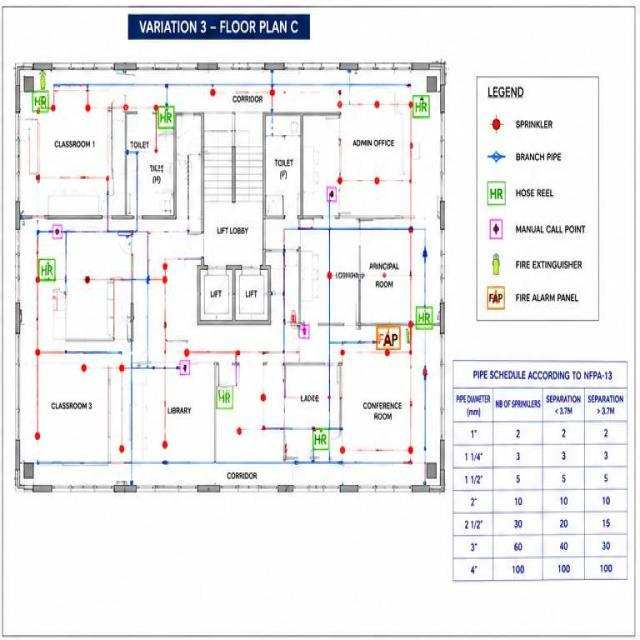branch_pipe: (28, 215, 143, 453), (403, 110, 418, 473), (156, 255, 172, 453), (34, 167, 118, 192), (340, 343, 412, 370), (80, 90, 162, 111), (331, 168, 403, 190), (335, 98, 421, 115), (338, 439, 416, 454), (204, 88, 285, 100), (180, 344, 244, 359), (237, 424, 266, 442)
fire_alarm_panel: (377, 328, 400, 349)
hose_reel: (157, 107, 176, 129), (416, 306, 432, 330), (216, 386, 232, 408), (414, 96, 430, 117), (312, 431, 329, 450), (32, 92, 48, 112), (39, 260, 54, 280)
sprinkler: (160, 260, 170, 286), (298, 325, 310, 340), (326, 188, 336, 205), (52, 224, 62, 238), (179, 362, 190, 374)
